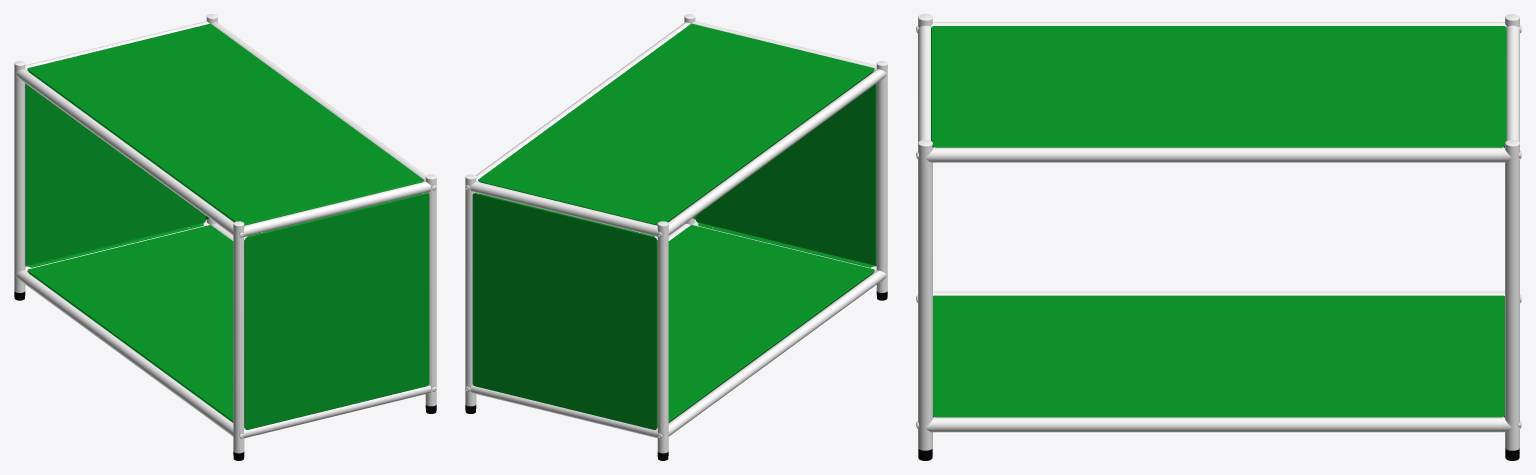
The model's file is 80x40x40-1-8-green_optimized_optimized.glb.
The picture shows the model from 3 angles, left to right: view 1: azimuth 30°, elevation 25°; view 2: azimuth 150°, elevation 25°; view 3: azimuth 270°, elevation 25°; orthographic projection. The views are drawn at different scales.
Visible parts, largest first — view 1: 直角鐵板-80x40-5 - 零件, new-上塞-1 - 零件; view 2: 直角鐵板-80x40-5 - 零件, new-上塞-1 - 零件; view 3: 直角鐵板-80x40-5 - 零件, new-上塞-1 - 零件.
Boxes of the visible parts, bbox=[...] form: 直角鐵板-80x40-5 - 零件: bbox=[25, 23, 429, 429]; new-上塞-1 - 零件: bbox=[14, 14, 436, 453]; 直角鐵板-80x40-5 - 零件: bbox=[472, 23, 876, 429]; new-上塞-1 - 零件: bbox=[465, 14, 887, 453]; 直角鐵板-80x40-5 - 零件: bbox=[931, 26, 1506, 417]; new-上塞-1 - 零件: bbox=[916, 14, 1521, 450].
Bounding box in the file's own units: 0.3992 × 0.4453 × 0.7732.
